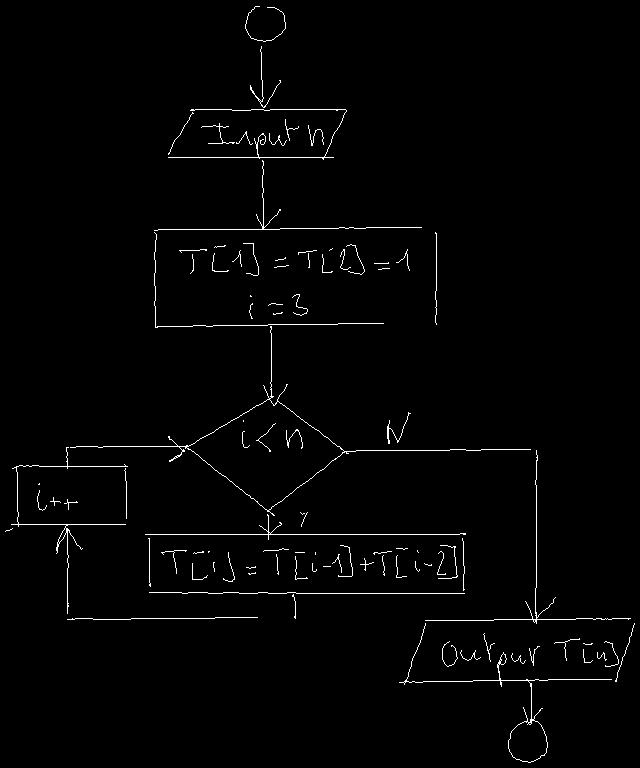arrow: (345, 449, 555, 623), (56, 524, 295, 619), (66, 436, 187, 468), (263, 326, 287, 405), (250, 46, 280, 107), (256, 160, 280, 228), (523, 679, 542, 724), (259, 514, 281, 539)
connection: (508, 719, 547, 762), (245, 6, 285, 41)
data: (399, 618, 634, 684), (168, 109, 346, 159)
decision: (185, 396, 348, 515)
process: (154, 227, 436, 327), (145, 533, 465, 593), (5, 464, 127, 531)
text: (179, 243, 409, 318), (161, 545, 457, 581), (442, 633, 618, 686), (201, 119, 323, 158), (242, 420, 302, 451), (37, 483, 77, 510), (387, 412, 410, 443), (300, 512, 307, 526)
